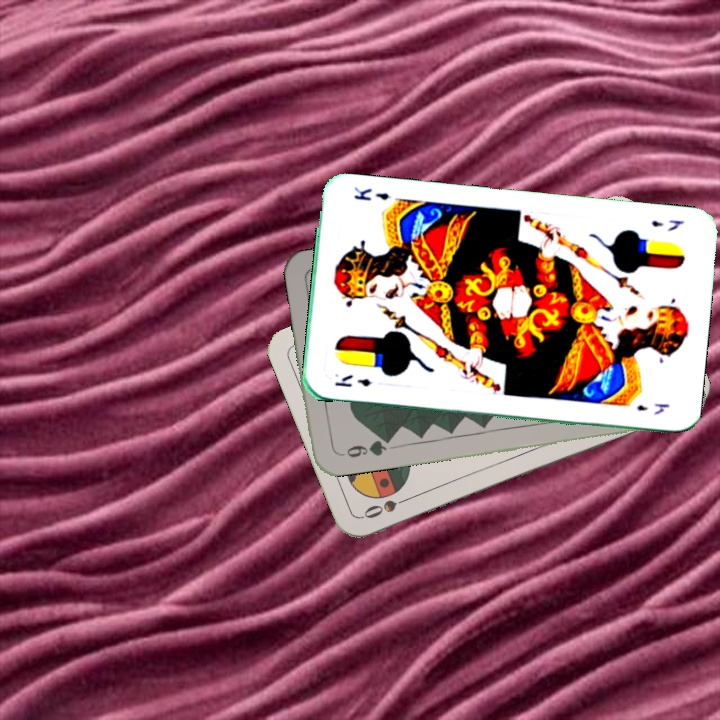EK: (330, 370, 374, 390), (647, 216, 687, 234)
G9: (334, 434, 393, 461)
SO: (359, 491, 416, 521)
